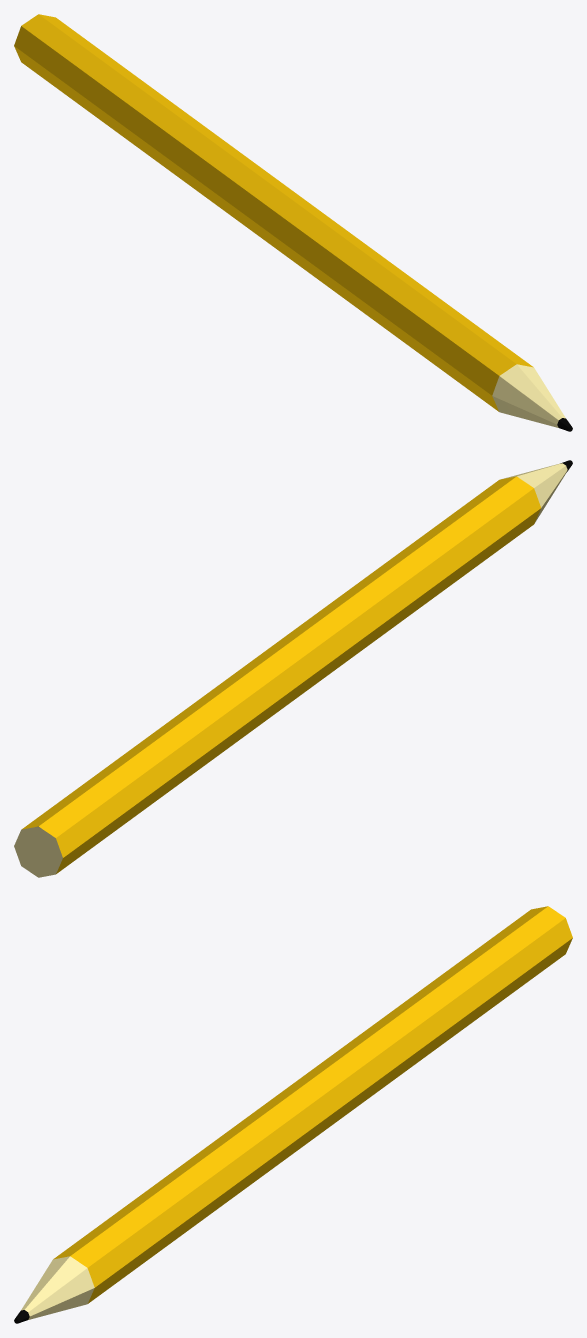
The model's file is Lapiz.fbx.
The picture shows the model from 3 angles, top to bottom: view 1: azimuth 30°, elevation 25°; view 2: azimuth 150°, elevation 25°; view 3: azimuth 330°, elevation 25°; orthographic projection.
Parts seen in each view (by area): view 1: Lapiz; view 2: Lapiz; view 3: Lapiz.
Boxes of the visible parts, <box> form: Lapiz: <box>14,14,572,431</box>; Lapiz: <box>14,460,572,877</box>; Lapiz: <box>14,906,572,1323</box>.
Size of the model in its own units: 3.45 by 3.45 by 64.81.
1 material, 1 textured.
